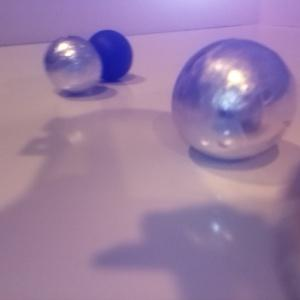alive_ball: (172, 38, 295, 161), (44, 36, 102, 93)
dead_ball: (83, 30, 133, 82)
